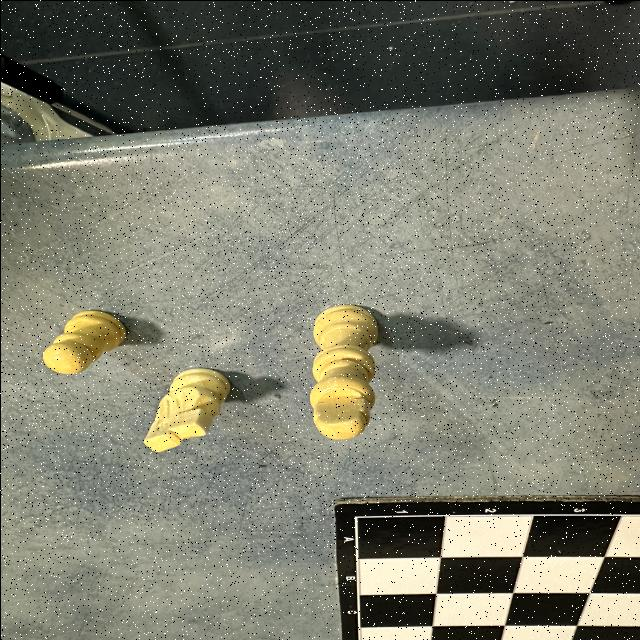White-King: (310, 306, 378, 438)
White-Knight: (144, 366, 229, 451)
White-Pawn: (40, 307, 124, 374)
